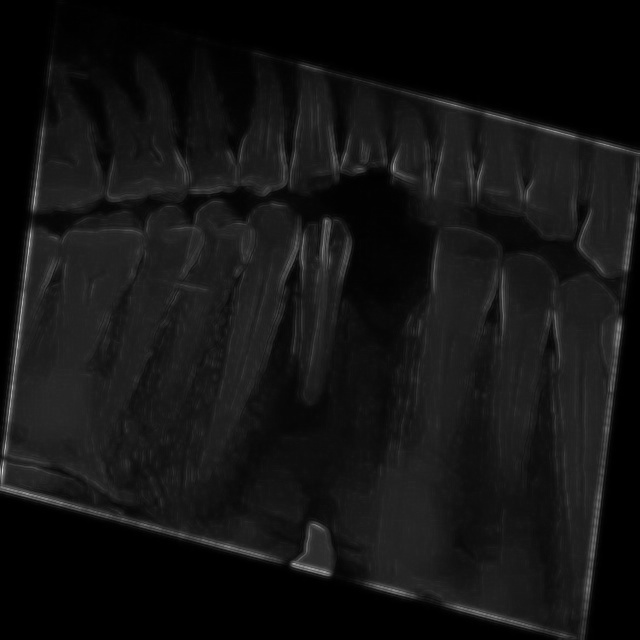Class 1- complete endodontic treatment: (262, 202, 381, 469)
